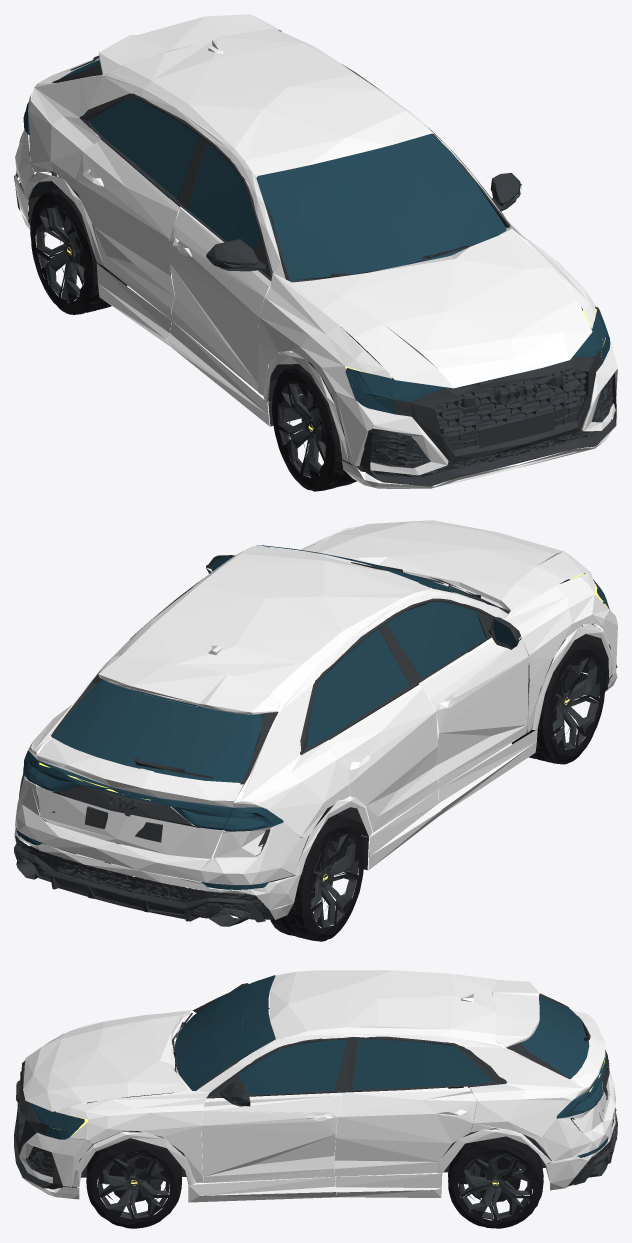
File: audi-rs-q8.glb
3 renders of one model, top to bottom at view 1: azimuth 30°, elevation 25°; view 2: azimuth 150°, elevation 25°; view 3: azimuth 270°, elevation 25°, orthographic. The views are drawn at different scales.
Visible parts, largest first — view 1: Car Body; view 2: Car Body; view 3: Car Body.
Part boxes in pixels (bbox=[...]): Car Body: bbox=[14, 14, 617, 491]; Car Body: bbox=[14, 520, 617, 941]; Car Body: bbox=[14, 970, 617, 1228].
Size of the model in its own units: 2.22 by 1.7 by 5.
